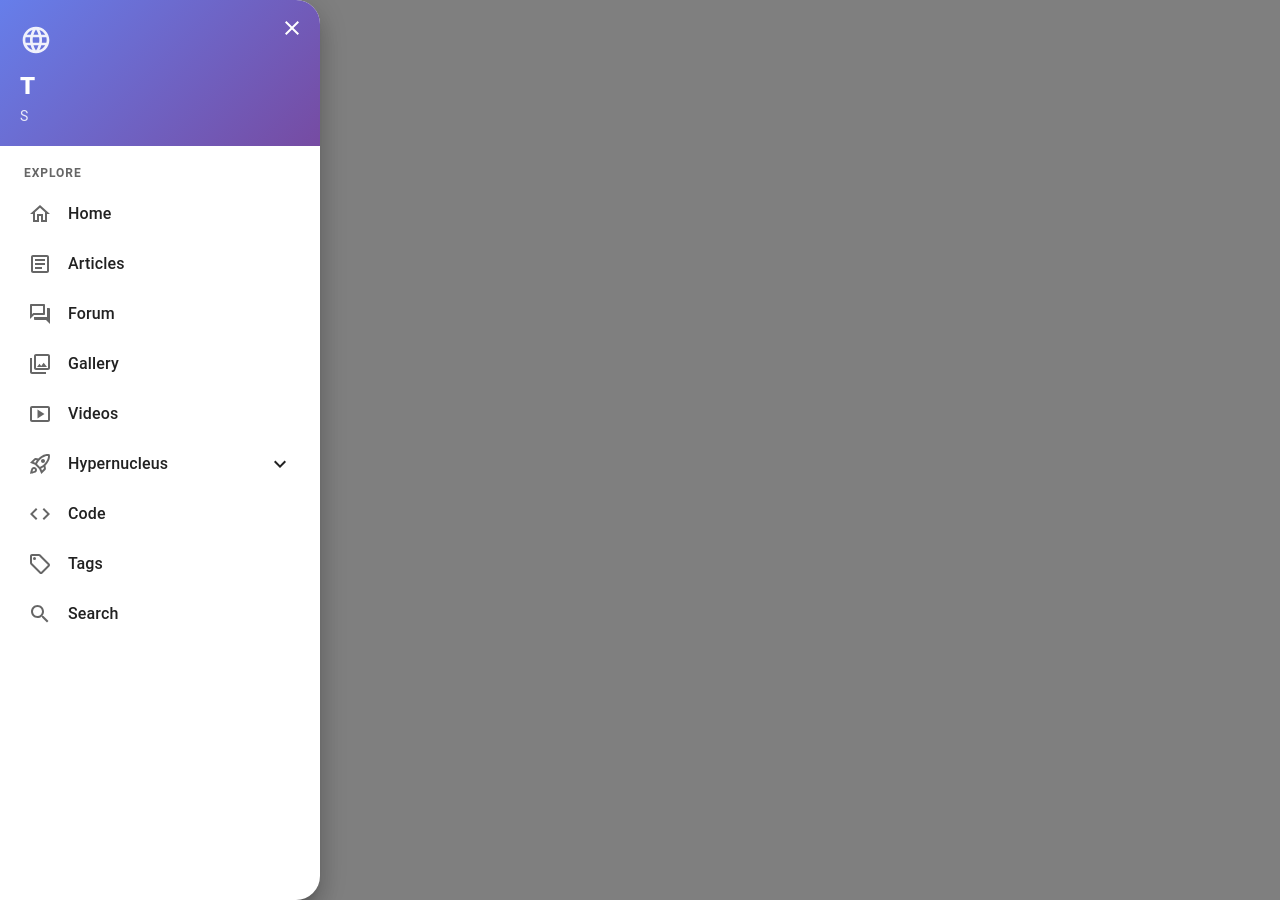
Get the launcher entries › portal lists it; the site drawer nests it under Hypernucleus
Click the button with test id "drawer-nav-hypernucleus" at (160, 464), box x1=28 y1=452 x2=292 y2=476
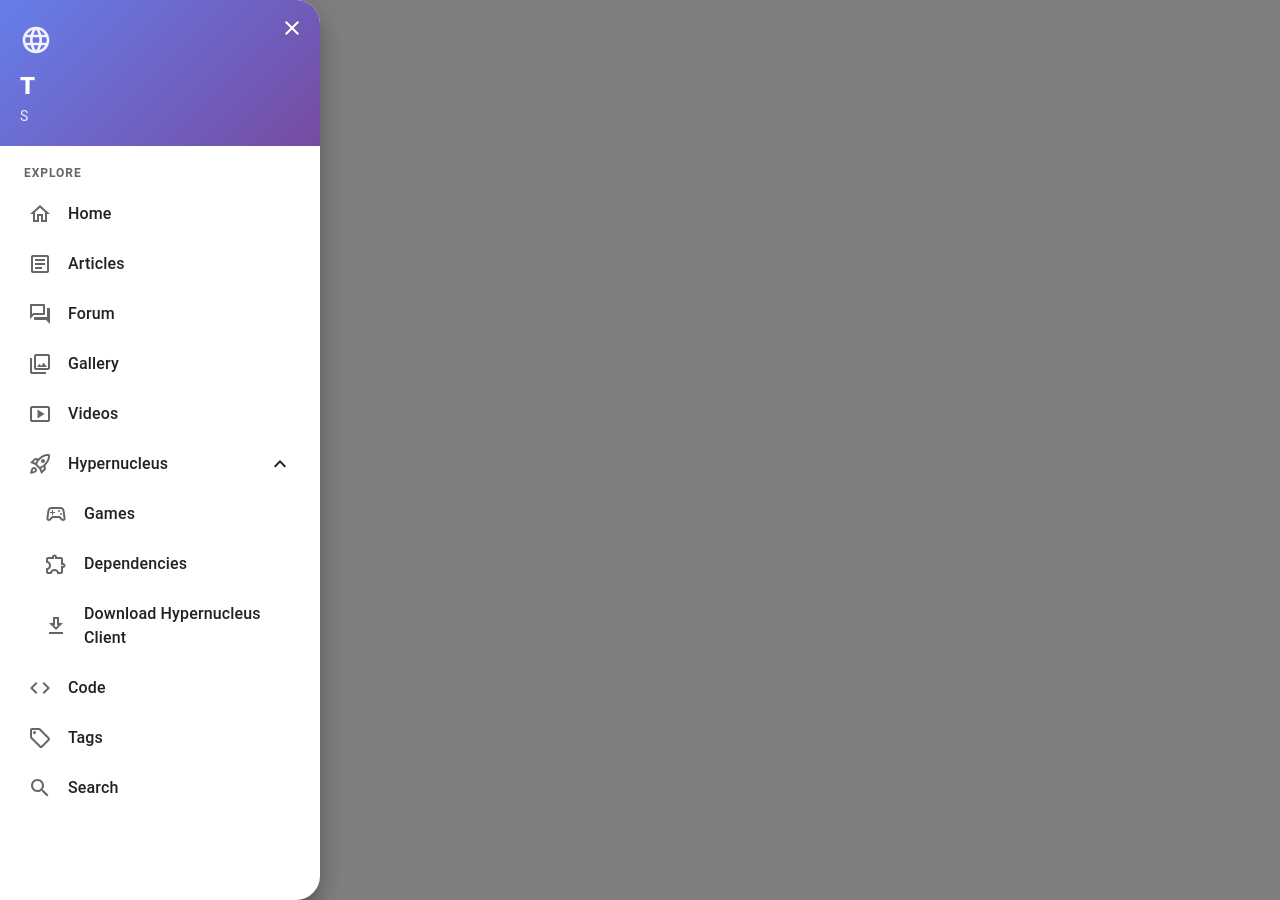
Now the link with test id "drawer-download" reads "Download Hypernucleus Client", box x1=44 y1=604 x2=261 y2=647
